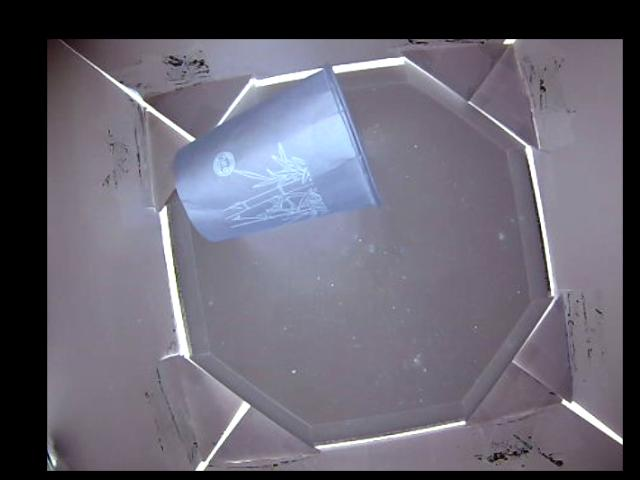Cup: (172, 61, 377, 241)
